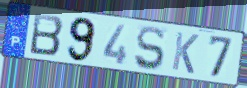4: (102, 23, 129, 66)
7: (206, 34, 236, 80)
9: (66, 16, 99, 63)
B: (28, 12, 65, 57)
K: (170, 30, 200, 76)
S: (133, 25, 166, 72)
